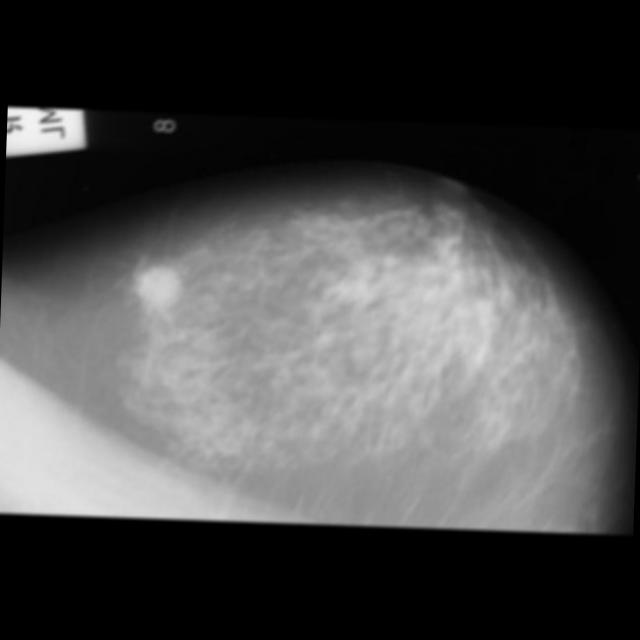SPIC: (134, 262, 183, 310)
